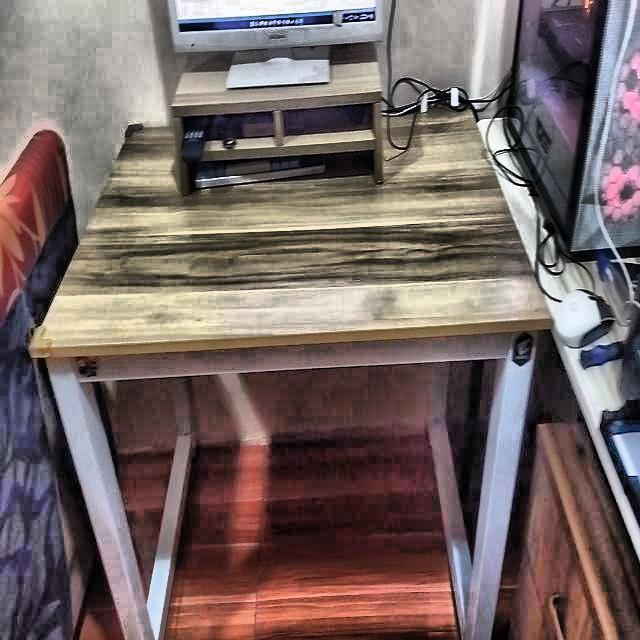mesa: (51, 110, 540, 640)
